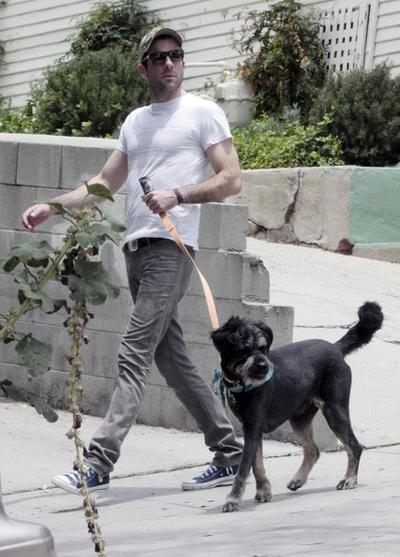person: (23, 29, 243, 489)
